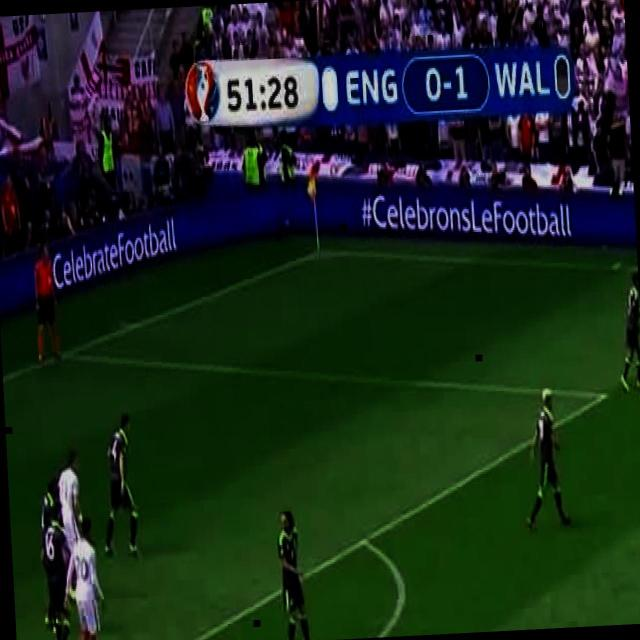player-white: (518, 386, 570, 530), (97, 413, 139, 557), (58, 515, 106, 640), (34, 475, 70, 635), (274, 506, 316, 640), (55, 448, 88, 600), (39, 505, 74, 640), (31, 242, 61, 363), (614, 272, 640, 392)
